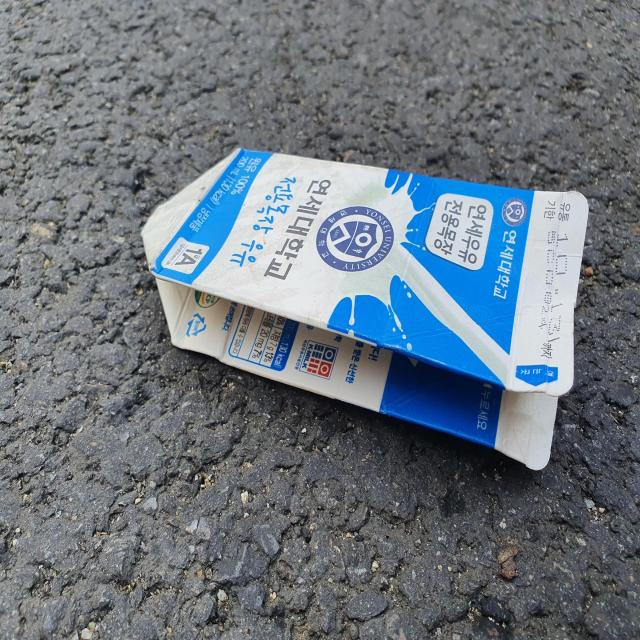paperpack: (142, 148, 589, 469)
